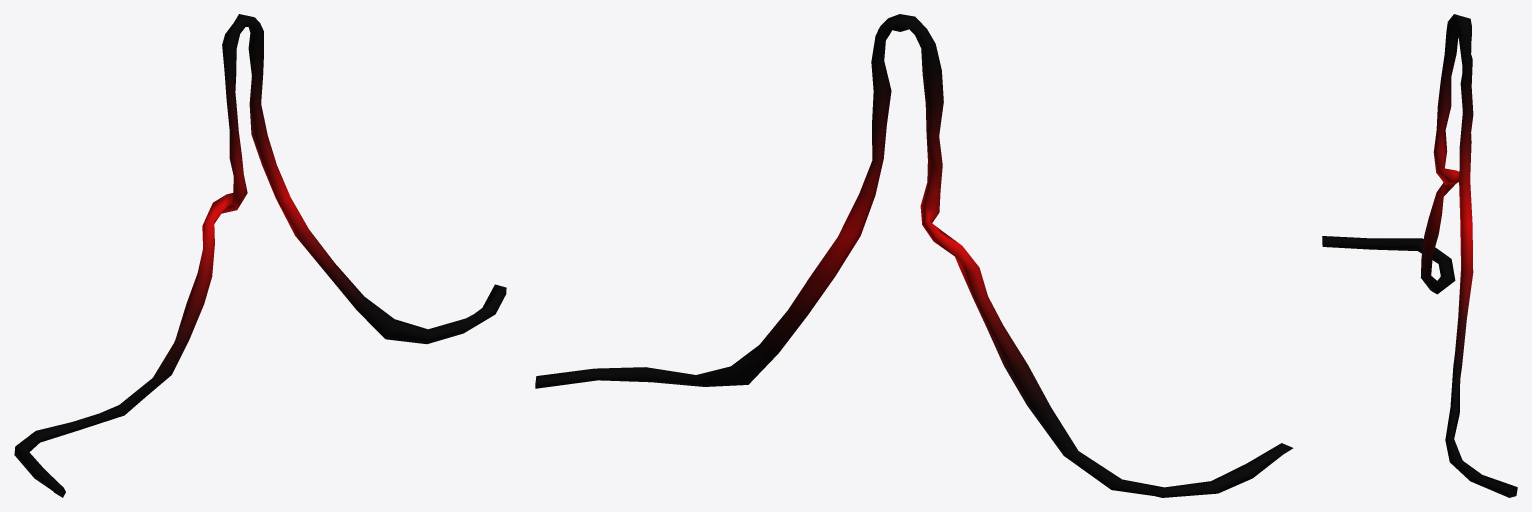
Rendered from SM_Guts_A_Fence_C_06.fbx.
3 views of the same model, side by side, from view 1: azimuth 30°, elevation 25°; view 2: azimuth 150°, elevation 25°; view 3: azimuth 270°, elevation 25° (orthographic). The views are drawn at different scales.
Parts seen in each view (by area): view 1: SM_Guts_A_Fence_C_06_LOD0; view 2: SM_Guts_A_Fence_C_06_LOD0; view 3: SM_Guts_A_Fence_C_06_LOD0.
Part boxes in pixels (x1,y1,x2,y2): SM_Guts_A_Fence_C_06_LOD0: (14, 14, 506, 497); SM_Guts_A_Fence_C_06_LOD0: (535, 14, 1293, 497); SM_Guts_A_Fence_C_06_LOD0: (1322, 14, 1517, 497).
Bounding box in the file's own units: 153 × 49.54 × 97.67.
